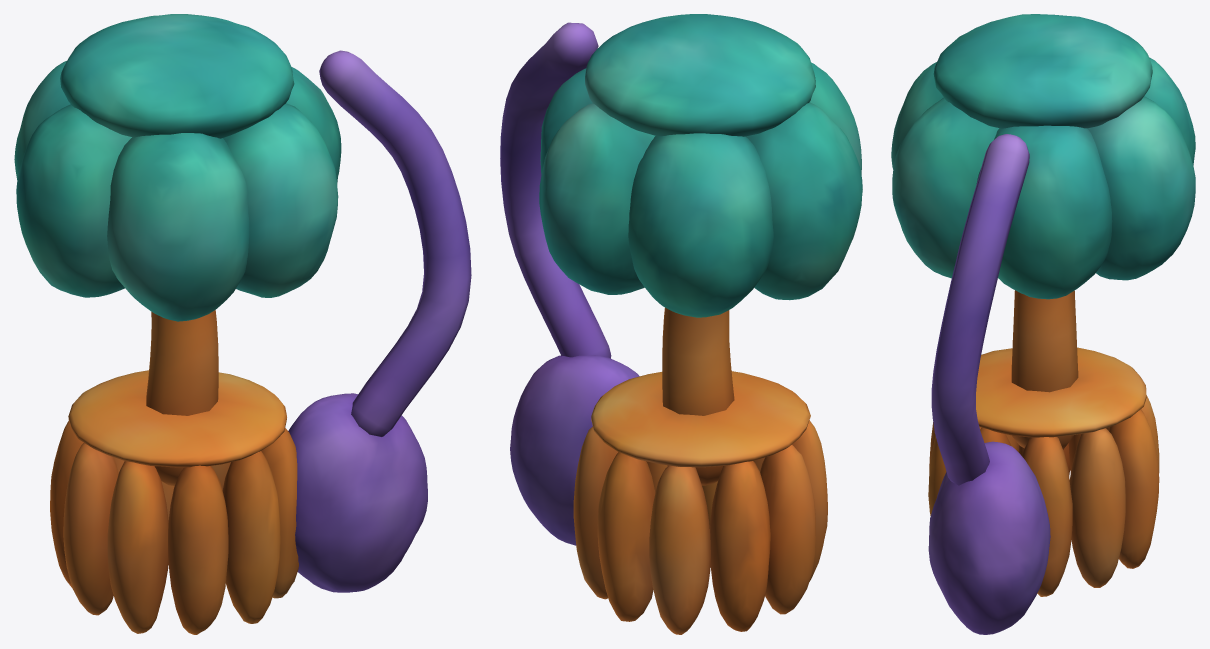
Rendered from atp-synthase.glb.
3 views of the same model, side by side, from view 1: azimuth 30°, elevation 25°; view 2: azimuth 150°, elevation 25°; view 3: azimuth 270°, elevation 25° (orthographic). The views are drawn at different scales.
Visible parts, largest first — view 1: atp-synthase-head, atp-synthase-rotor, atp-synthase-stator; view 2: atp-synthase-head, atp-synthase-rotor, atp-synthase-stator; view 3: atp-synthase-head, atp-synthase-rotor, atp-synthase-stator.
Part boxes in pixels (x1,y1,x2,y2): atp-synthase-head: (14, 14, 341, 321); atp-synthase-rotor: (50, 310, 298, 634); atp-synthase-stator: (288, 50, 471, 592); atp-synthase-head: (539, 14, 862, 317); atp-synthase-rotor: (573, 307, 827, 634); atp-synthase-stator: (500, 22, 639, 545); atp-synthase-head: (891, 14, 1195, 299); atp-synthase-rotor: (928, 290, 1159, 596); atp-synthase-stator: (928, 134, 1050, 634).
Size of what is drawn, in the model's own units: 1.4 by 1.92 by 1.01.
